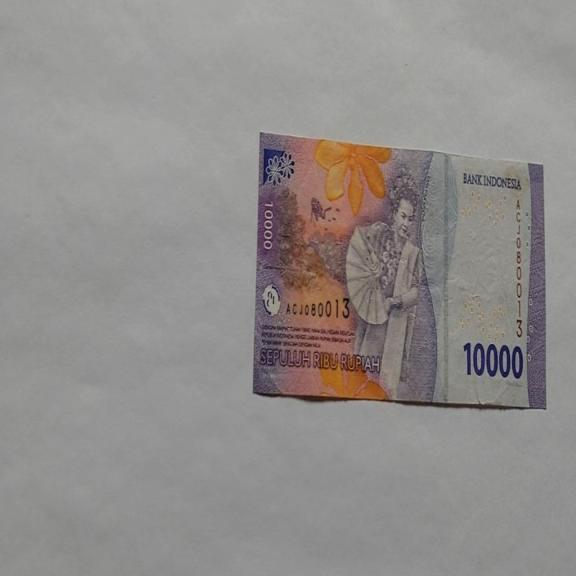Kertas: (252, 130, 546, 408)
